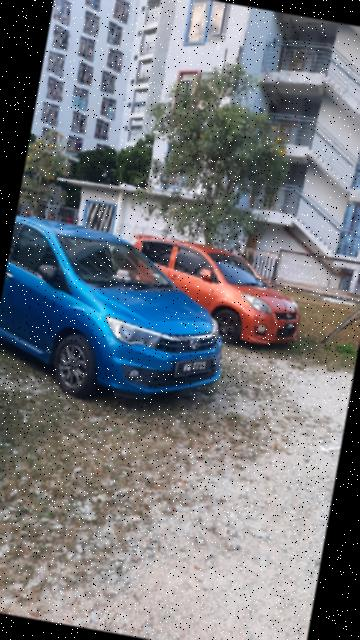License_Plate: (171, 353, 219, 384), (283, 323, 298, 332)
car: (1, 210, 252, 426), (118, 231, 316, 357)
